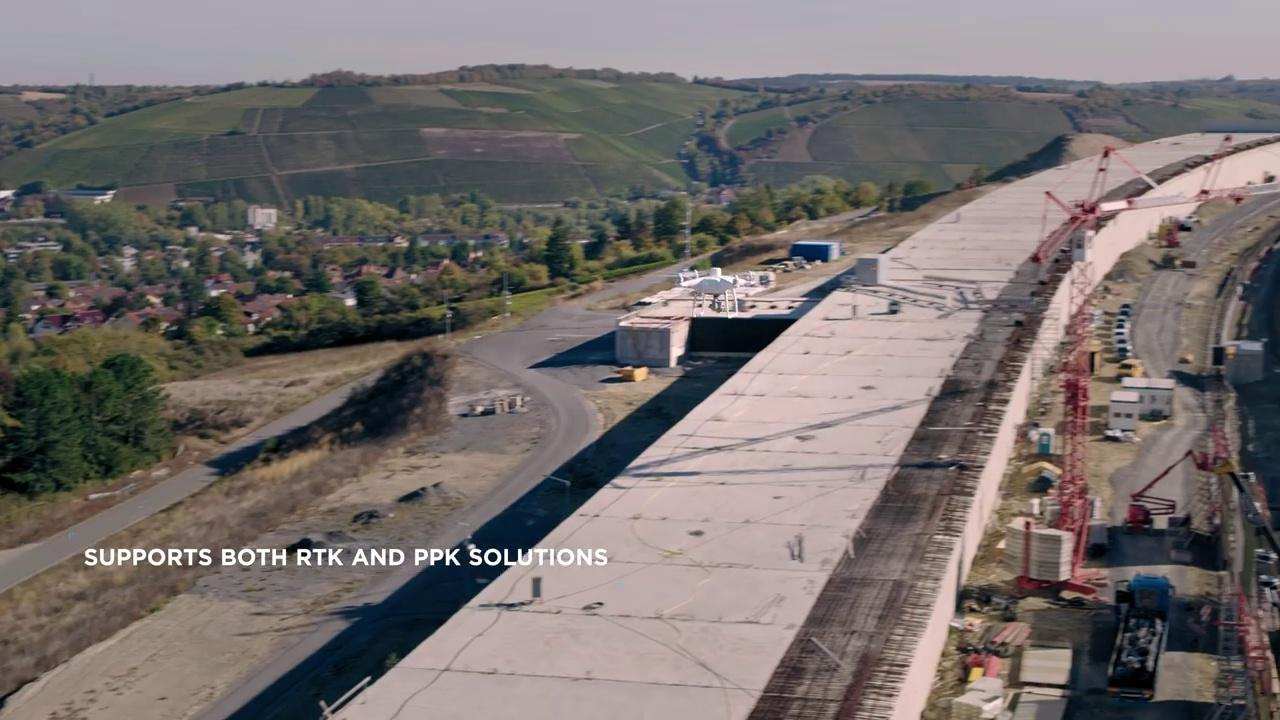drone: (659, 265, 765, 320)
